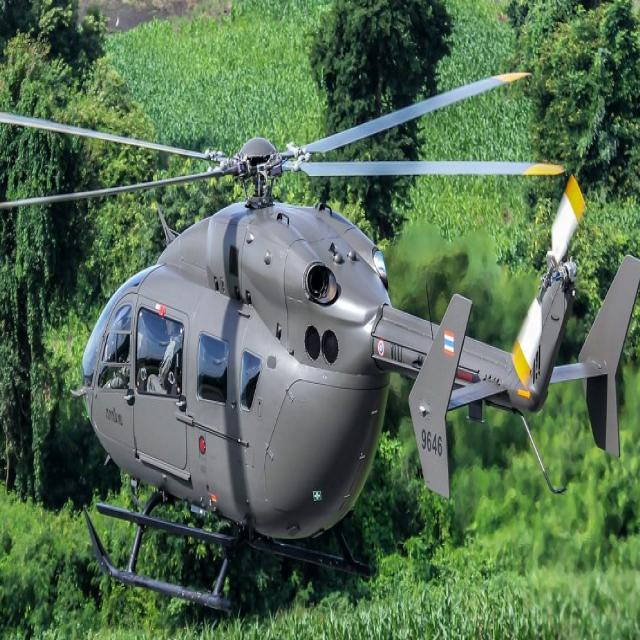helicopter: (1, 27, 640, 636)
